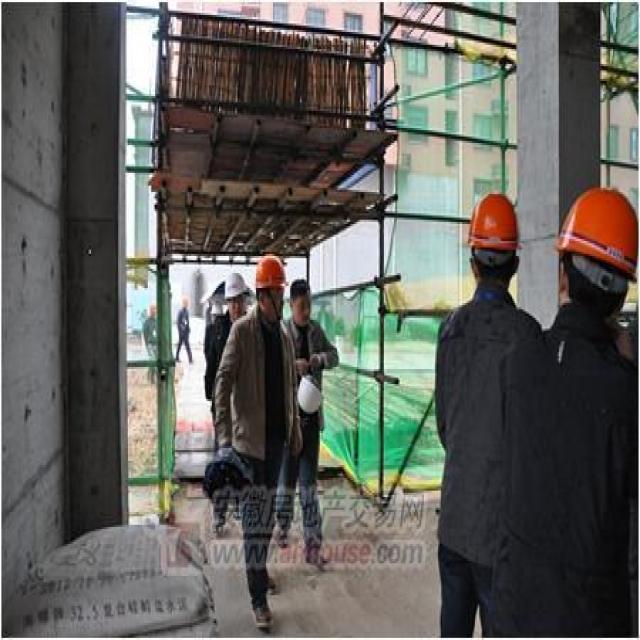helmet: (550, 186, 640, 330), (462, 192, 524, 299), (252, 254, 288, 324), (222, 271, 249, 324)
no-helmet: (287, 277, 317, 333)
